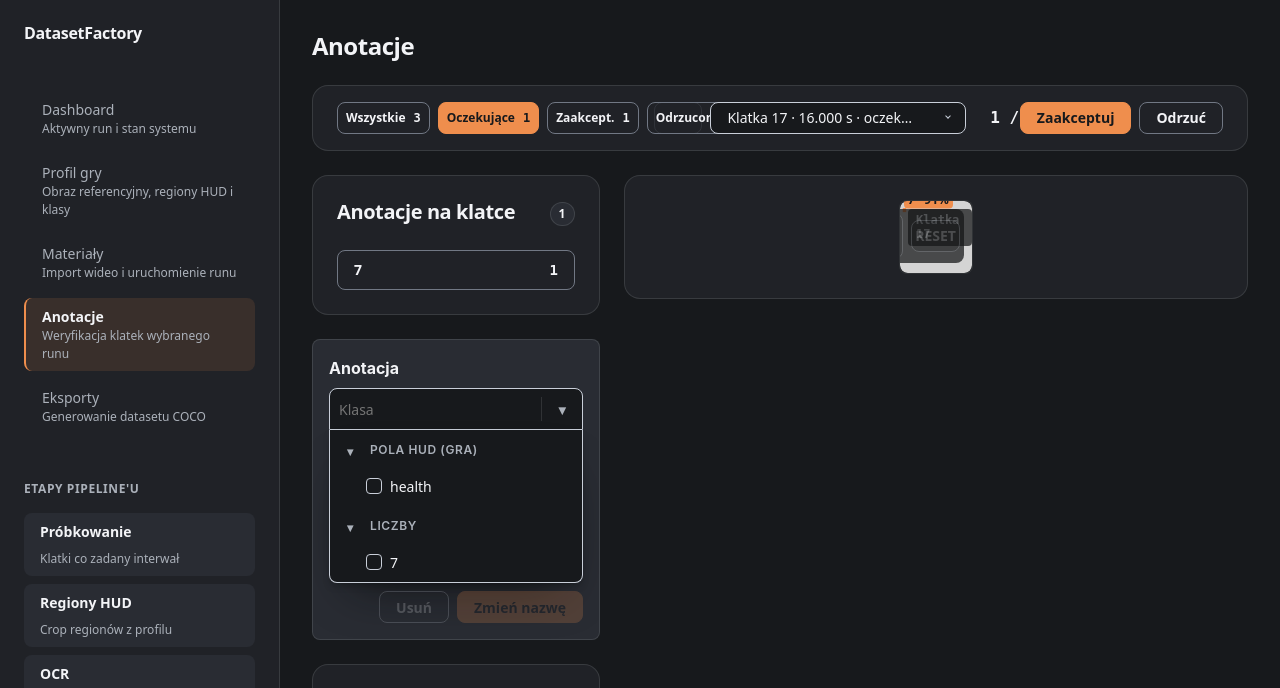
Test: FE-009-FIX1 — an unsaved nudge is visible and blocks acceptance › survives reselecting its class chip without sending a request
This screenshot has width=1280, height=688.
Click the button named "Klasa 7, 1 anotacji" at (456, 270), box [337,250,575,290]
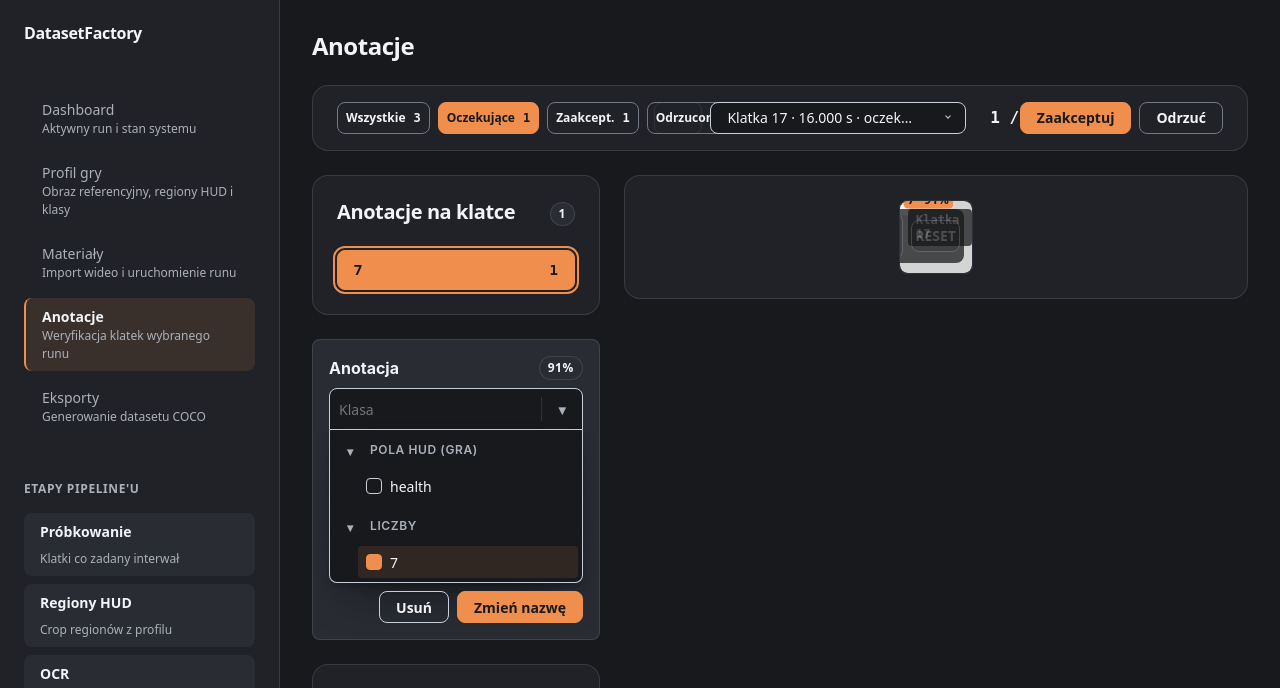
Press Arrowright Arrowright Arrowright
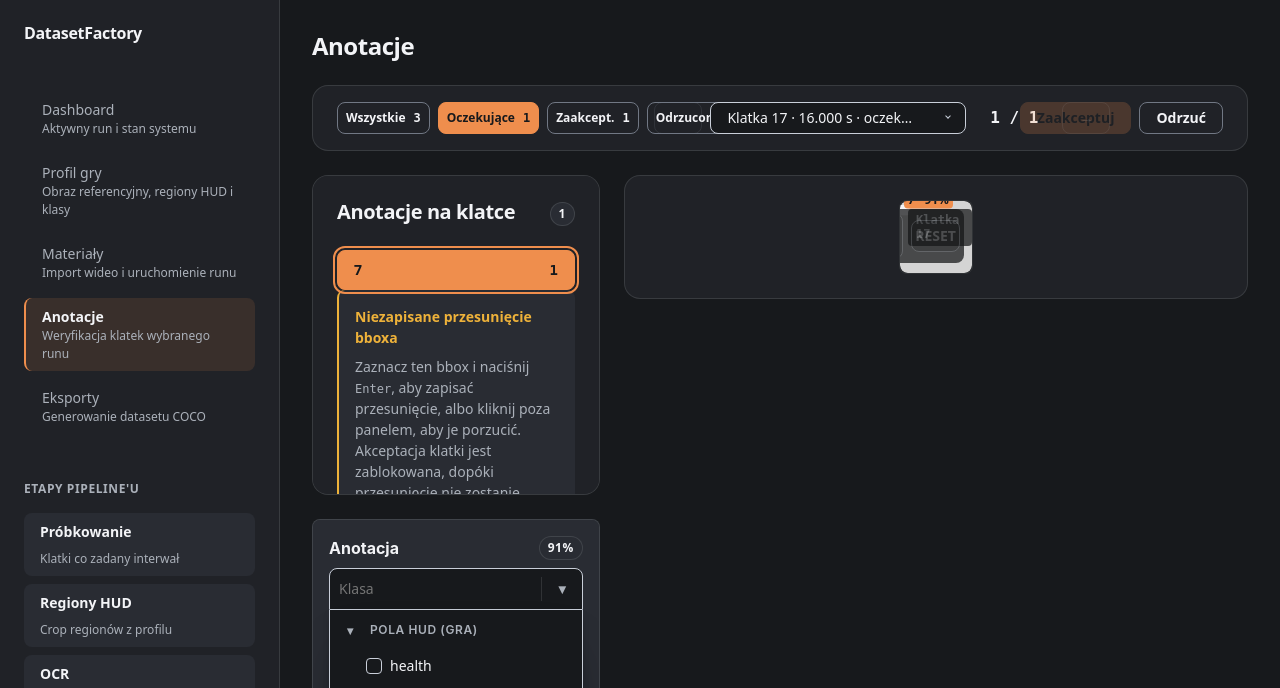
Click the button named "Klasa 7, 1 anotacji" at (456, 270), box [337,250,575,290]
(page scrolled)
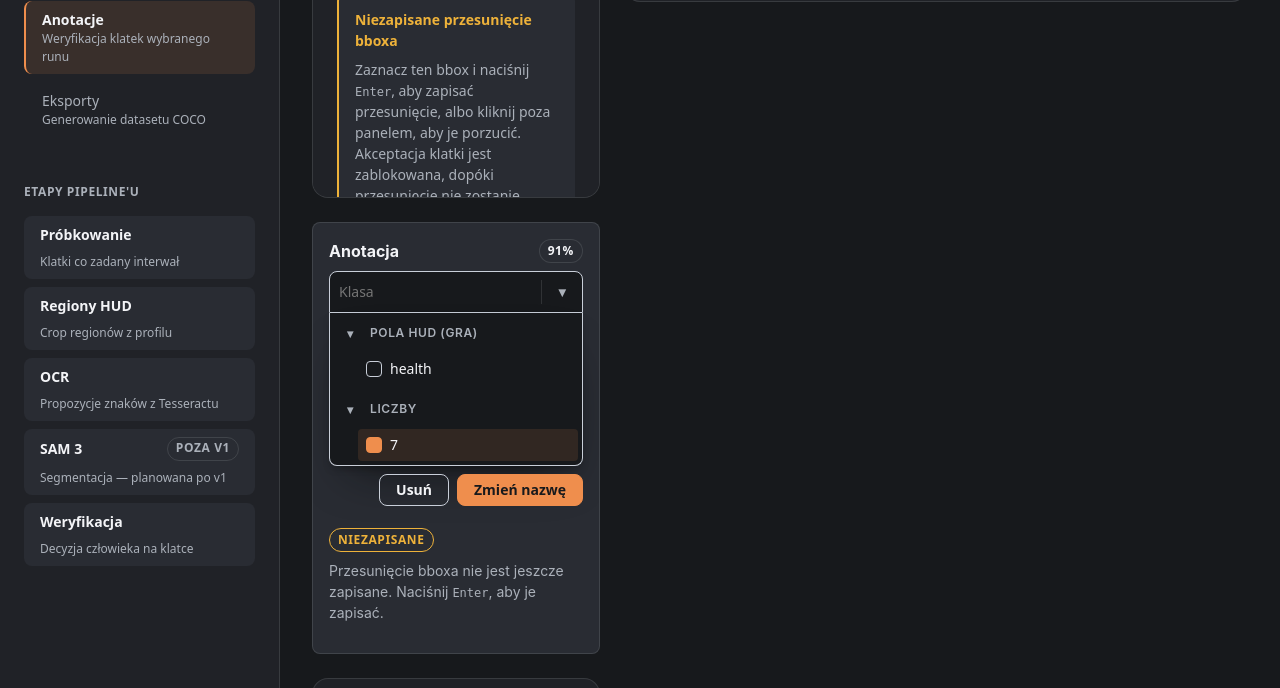
Expected: the text "Przesunięcie bboxa nie jest jeszcze zapisane" is shown, [329,562,564,600]
